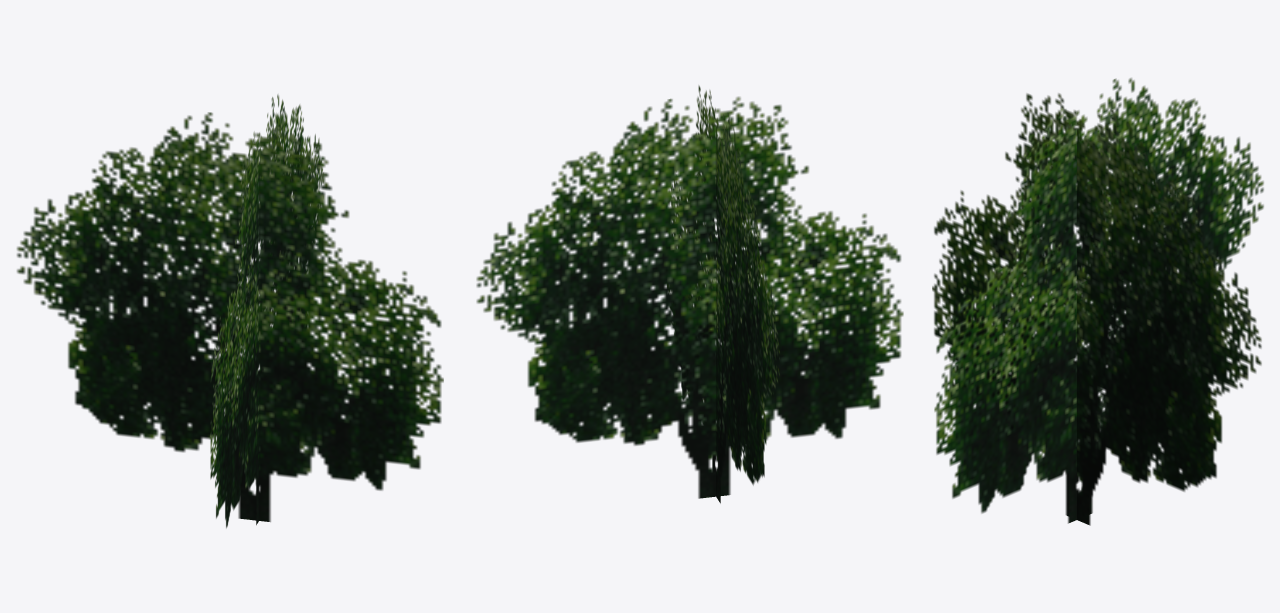
The model's file is tree108.glb.
3 views of the same model, side by side, from view 1: azimuth 30°, elevation 25°; view 2: azimuth 150°, elevation 25°; view 3: azimuth 270°, elevation 25° (orthographic). The views are drawn at different scales.
Parts seen in each view (by area): view 1: tree108; view 2: tree108; view 3: tree108.
Part boxes in pixels (box(x1,y1,x2,y2)): tree108: box(17, 94, 443, 528); tree108: box(476, 85, 903, 503); tree108: box(932, 78, 1263, 525).
Size of the model in its own units: 3.14 by 4 by 2.78.
Materials: 1 (1 with a texture image).
